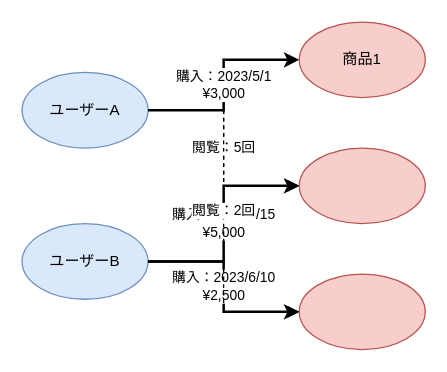
The diagram is 447 pixels wide and 372 high, and some of its shapes have lost their labels. Here are the shapes that lost their labels. From the top down, the centre of each, then its label:
At (x=361, y=185): "商品2".
At (x=361, y=311): "商品3".
